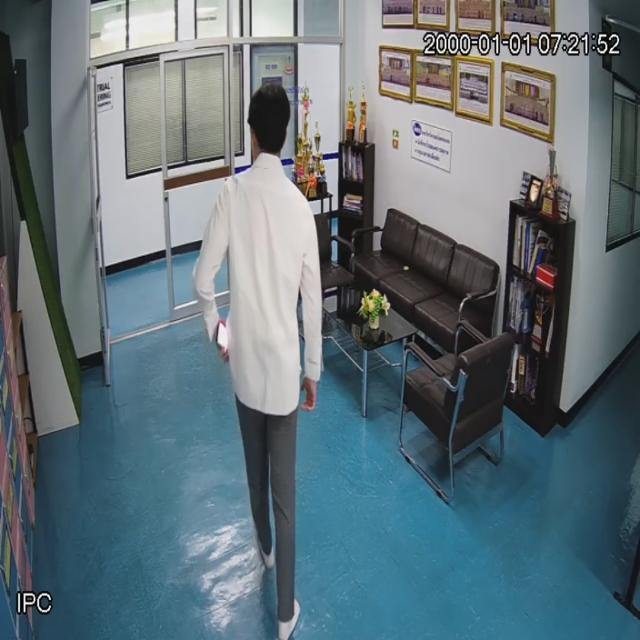normal: (194, 80, 322, 640)
